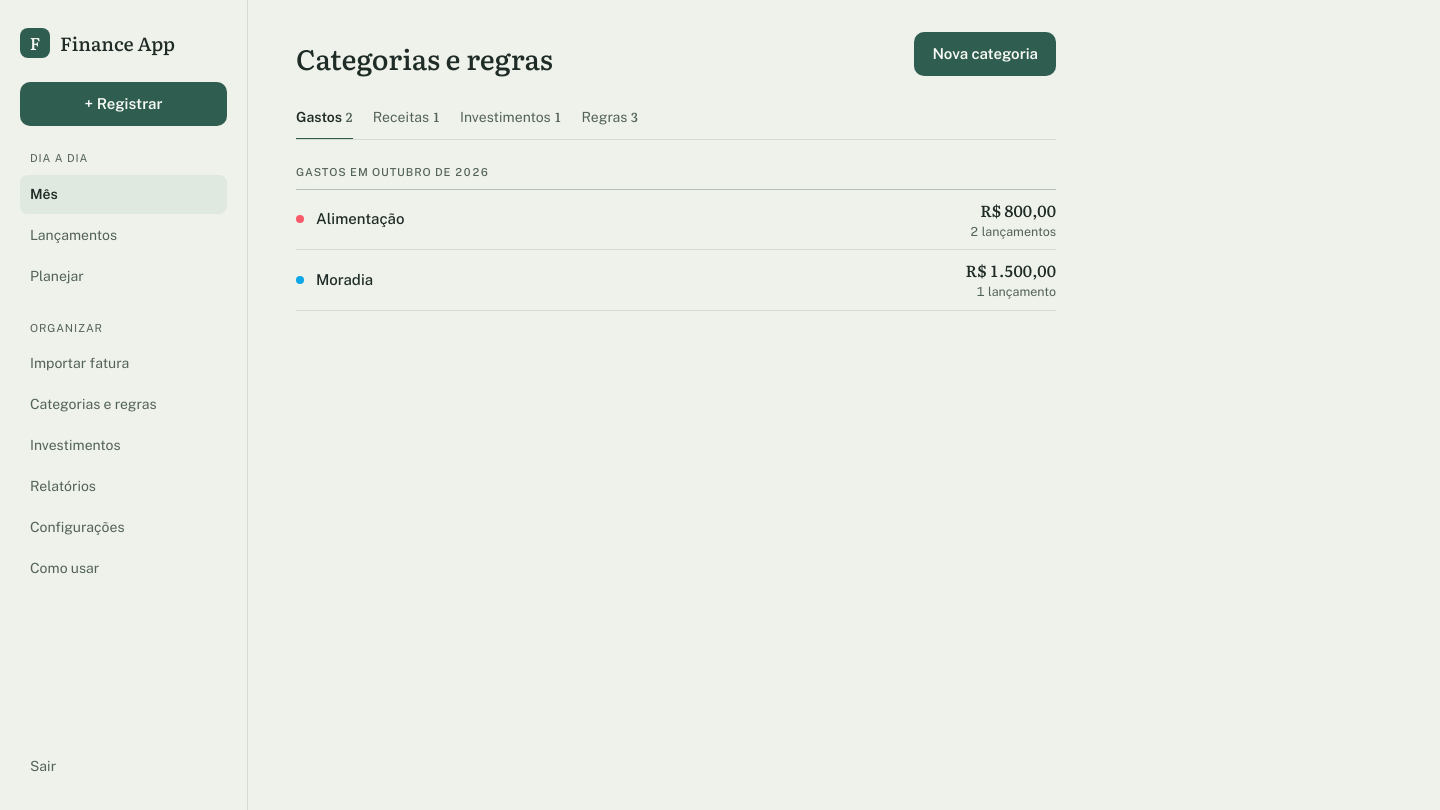
Página de categorias - Aba de regras de categorização › quando a exclusão falha mostra o erro da API no diálogo, que continua aberto
The width and height of the screenshot is (1440, 810).
Click the tab "Regras 3" at (610, 118), box left=582, top=96, right=638, bottom=140
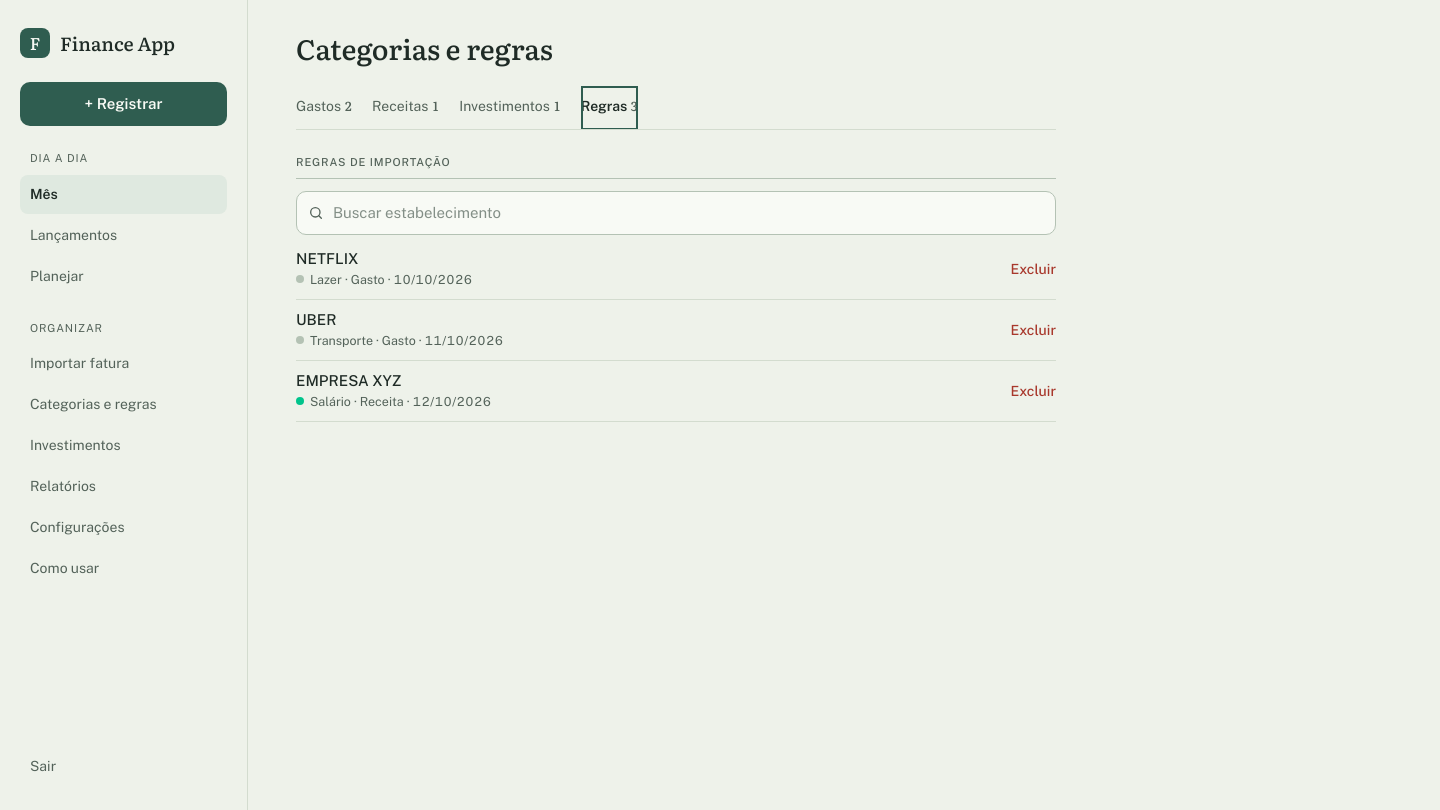
Click the button with aria-label "Excluir regra de NETFLIX" at (1033, 269), box left=998, top=247, right=1068, bottom=291
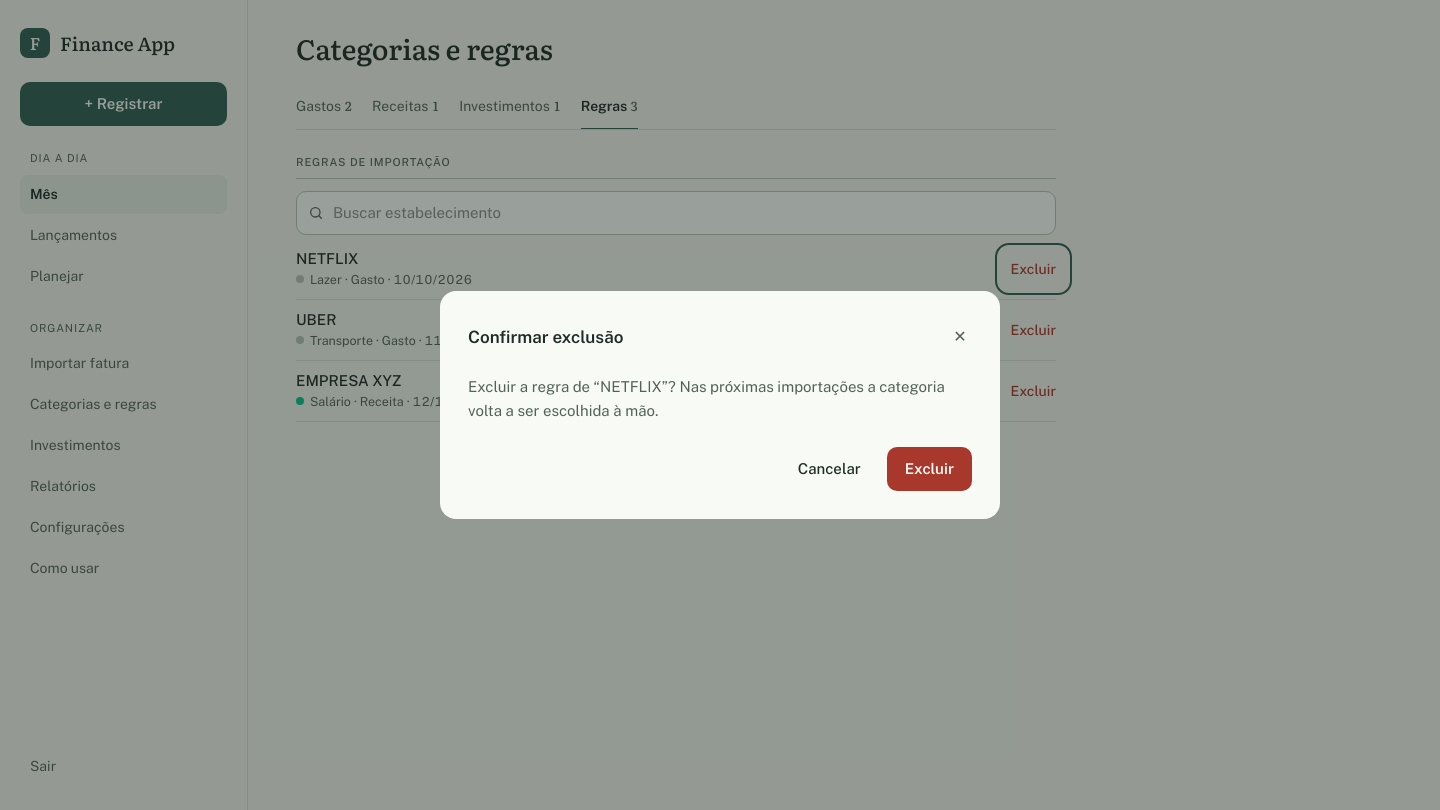
Click the button "Excluir" at (929, 469), box left=887, top=447, right=972, bottom=491
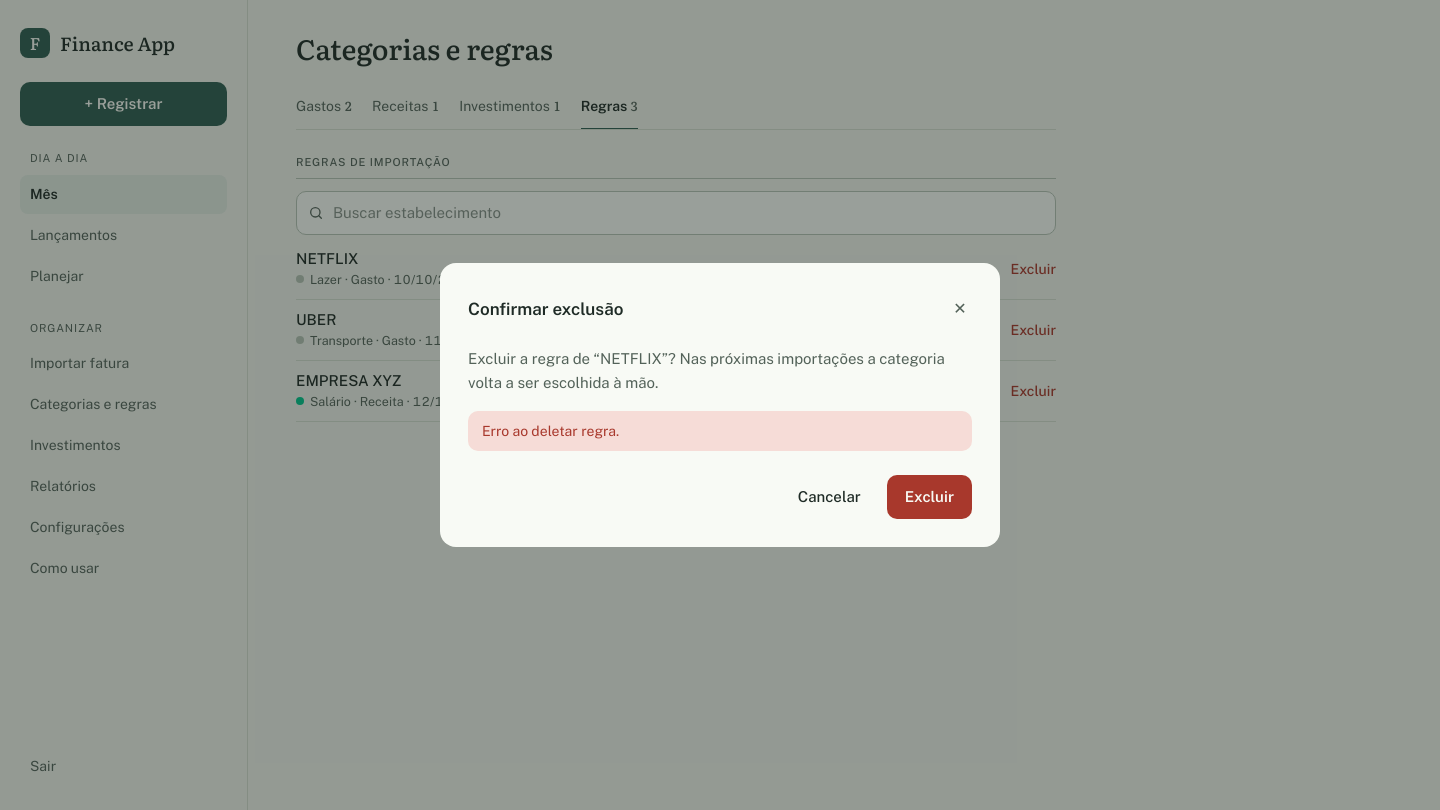
Expected: the text "NETFLIX" is shown, left=296, top=250, right=358, bottom=268
Expected: the message reads "Erro ao deletar regra.", left=482, top=423, right=619, bottom=439
